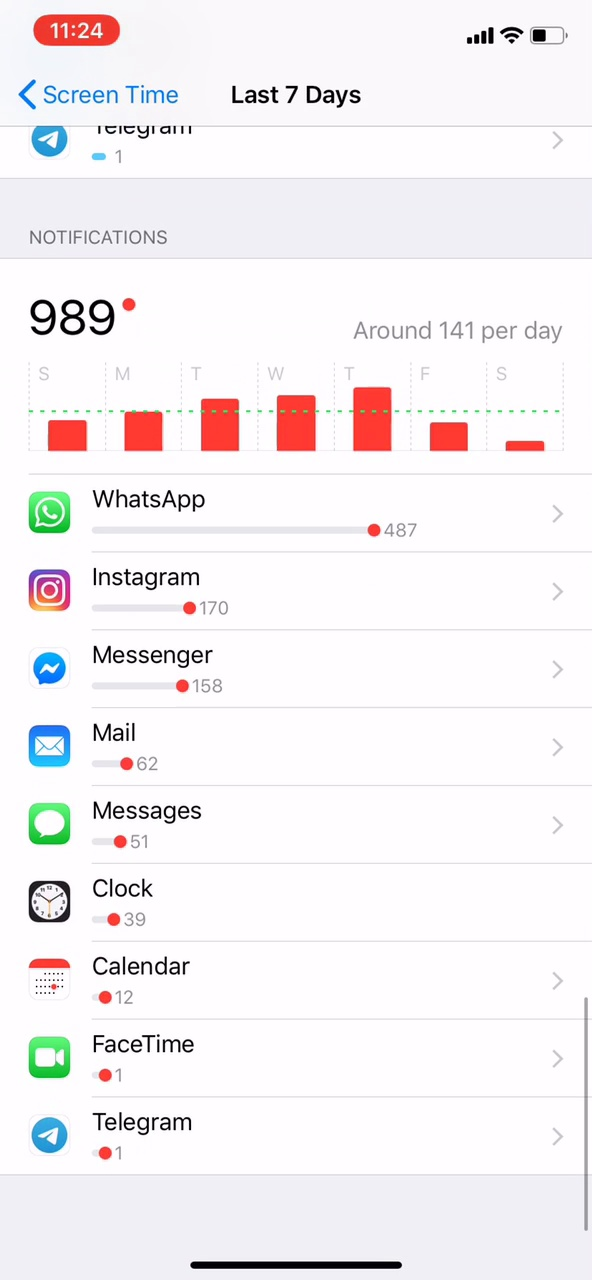not_app: (29, 477, 456, 546), (28, 561, 268, 627), (18, 1022, 229, 1096), (26, 638, 262, 703), (18, 797, 254, 857), (22, 714, 212, 783), (15, 944, 214, 1008), (17, 871, 215, 932), (18, 1107, 204, 1167)
not_over: (12, 196, 223, 350)
week: (223, 77, 376, 116)
